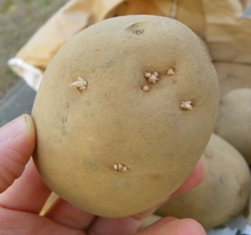potato rotten: (32, 14, 226, 219)
